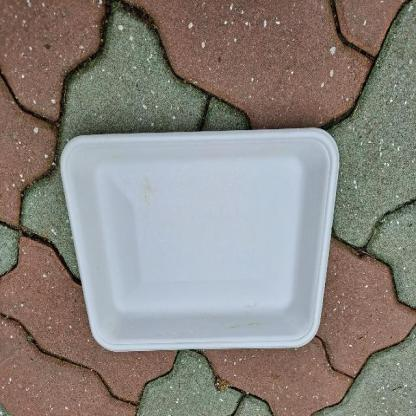Glass Cup: (59, 127, 340, 351), (60, 128, 340, 352)
